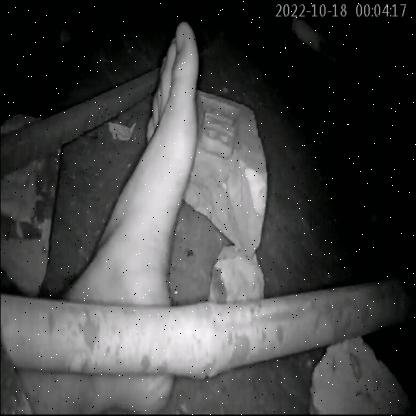leg: (22, 16, 235, 416)
